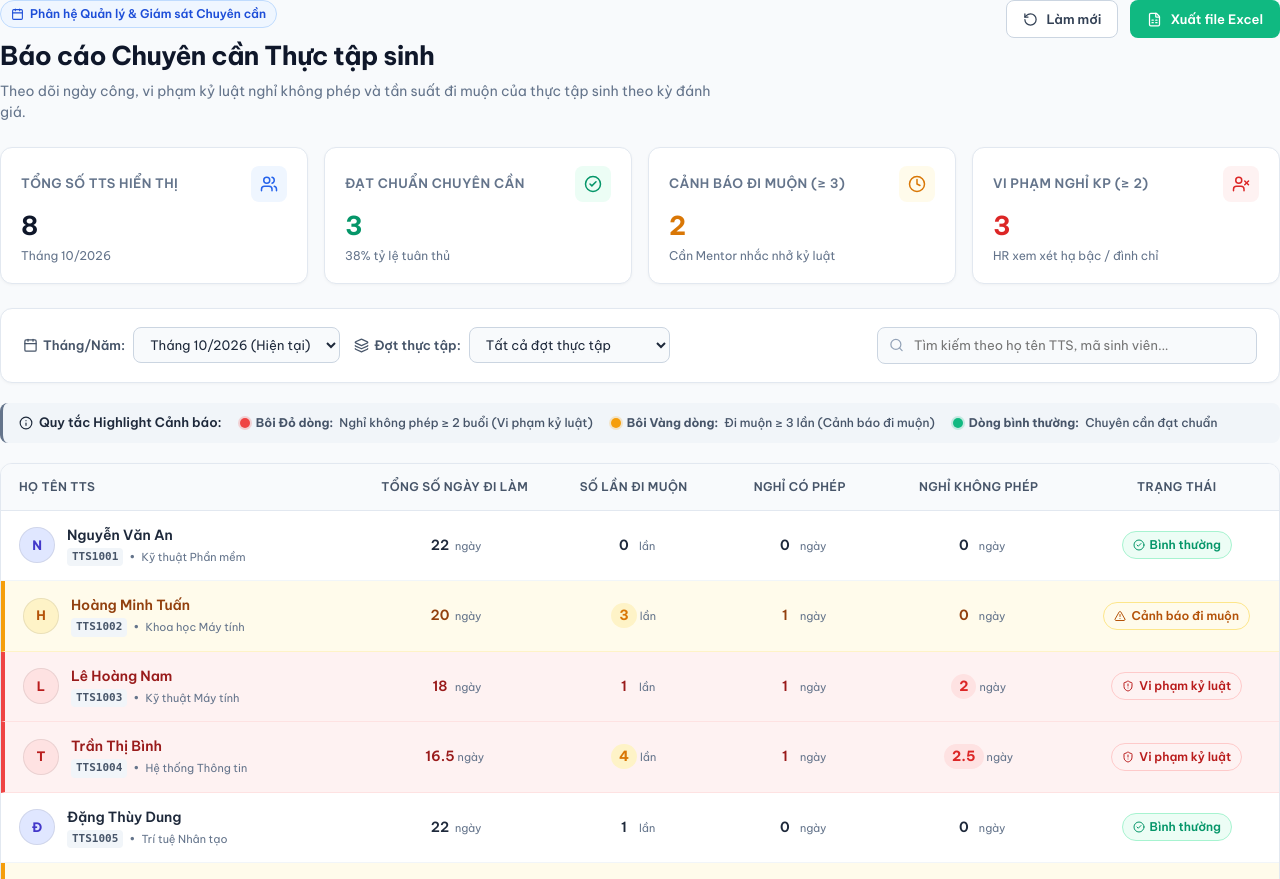
Test: AttendanceReportPage Component Test Suite › 4. Chức năng Tìm kiếm theo tên & Lọc đợt thực tập › lọc chính xác theo ô Search tên TTS
expect the text "Nguyễn Văn An" is shown: met, box [67,526,173,544]
In the field with placeholder "Tìm kiếm theo họ tên TTS, mã sinh viên...": (1067, 345) [877,327,1257,364], type "Hoàng Minh Tuấn"
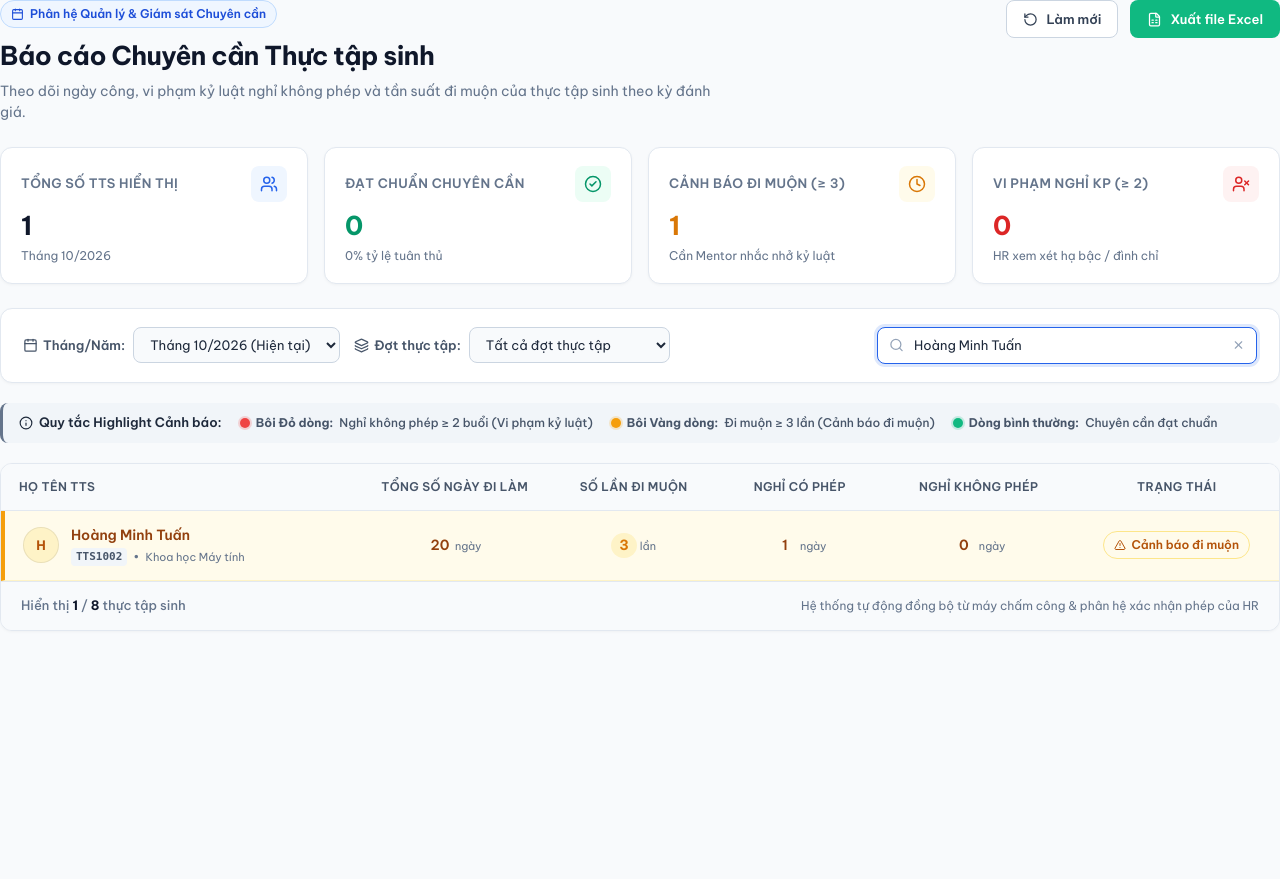
expect the text "Hoàng Minh Tuấn" is shown: met, box [71,526,190,544]
expect the text "Nguyễn Văn An" is gone: met
expect the text "Lê Hoàng Nam" is gone: met
